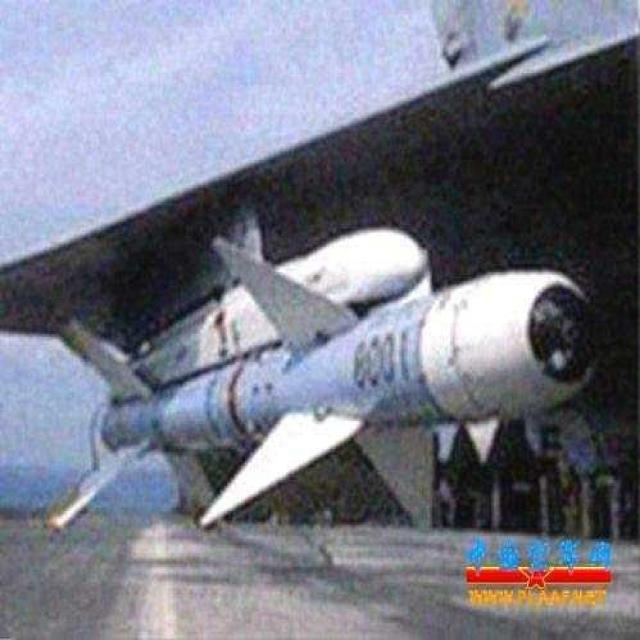missile: (44, 236, 596, 530)
